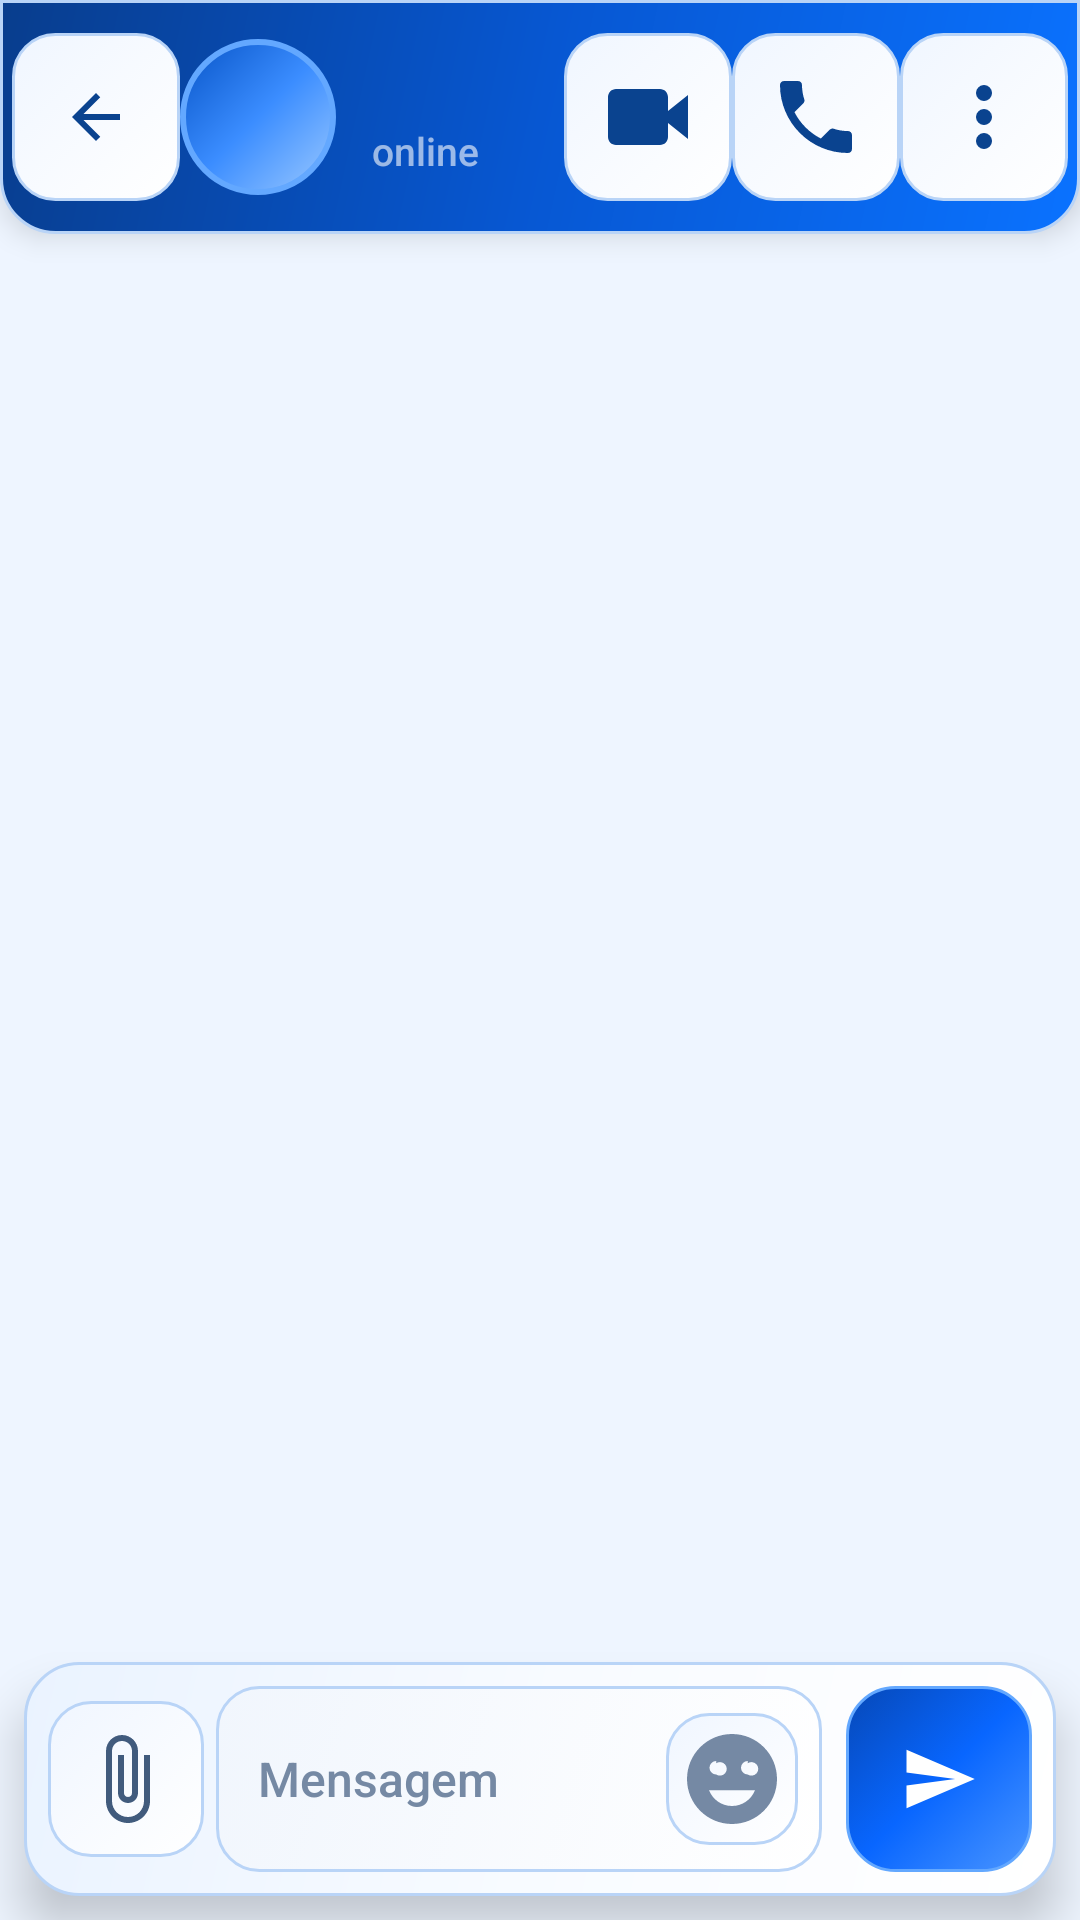

Named icons in this screenshot (1080 x 1920) and their centers, point (x, y):
Mais opções: point (984, 117)
zen attach: point (126, 1779)
zen back: point (96, 117)
zen call: point (816, 117)
zen send: point (939, 1779)
zen smile: point (732, 1779)
zen video: point (648, 117)
